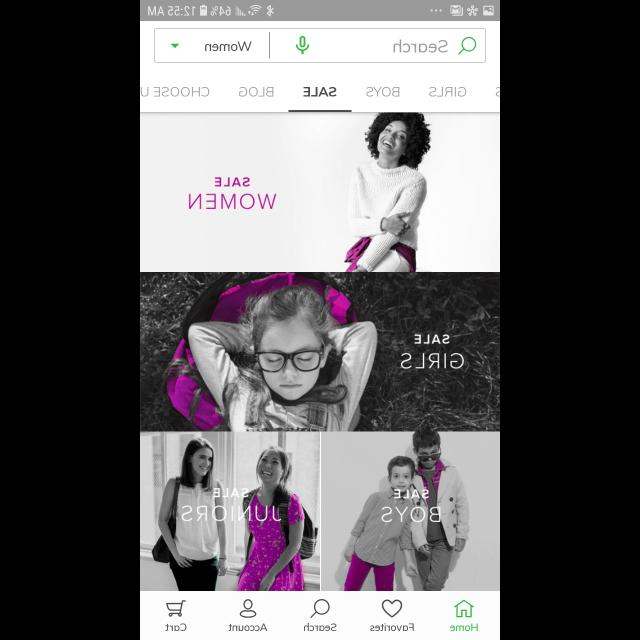icon: (310, 598, 330, 618), (454, 599, 474, 617), (382, 599, 402, 617), (458, 37, 476, 55), (240, 598, 256, 618), (166, 600, 186, 616), (295, 36, 309, 56), (170, 44, 180, 48)
image: (140, 112, 500, 272), (140, 273, 500, 432), (320, 432, 500, 590), (140, 432, 320, 590)
input: (154, 28, 486, 64)
text: (181, 506, 281, 522), (189, 194, 277, 210), (400, 352, 464, 370), (380, 506, 440, 522), (140, 87, 210, 97), (393, 40, 447, 52), (205, 42, 251, 52), (429, 87, 466, 97), (414, 335, 450, 345), (214, 177, 250, 187), (238, 87, 274, 97), (370, 623, 414, 631), (394, 489, 428, 499), (214, 488, 248, 498), (365, 87, 399, 97), (304, 87, 336, 97), (228, 623, 268, 631), (304, 623, 336, 631), (450, 623, 478, 631), (165, 623, 187, 631)
uppertaskbar: (140, 1, 500, 22)
